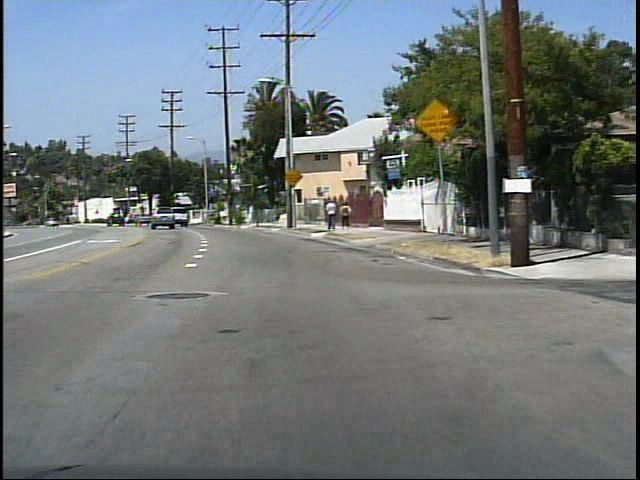person: (323, 196, 339, 233), (337, 200, 351, 230)
